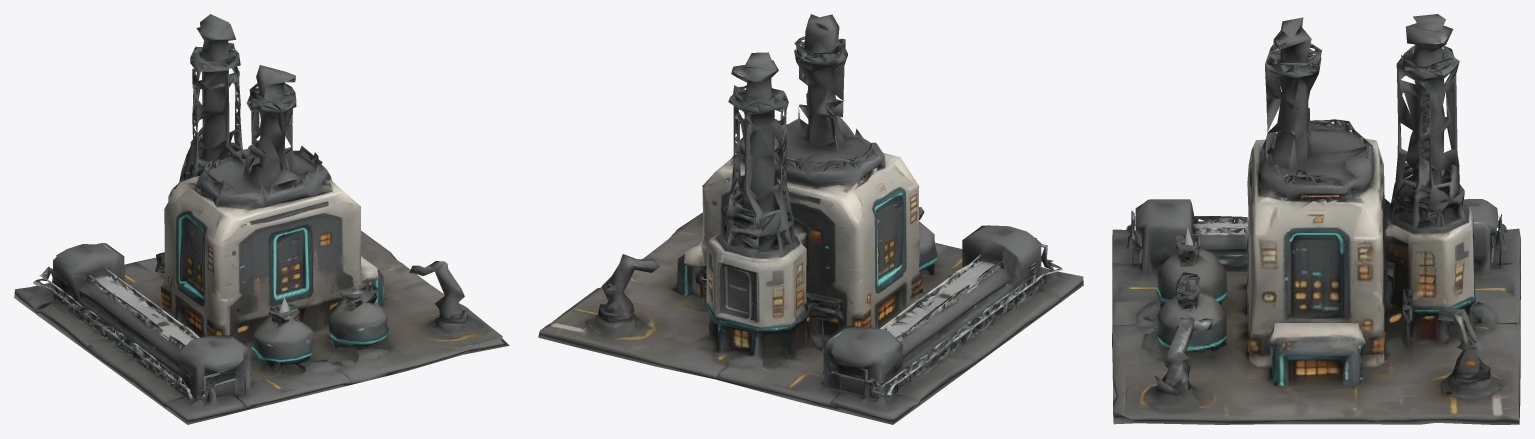
File: fabricator.glb
3 views of the same model, side by side, from view 1: azimuth 30°, elevation 25°; view 2: azimuth 150°, elevation 25°; view 3: azimuth 270°, elevation 25° (orthographic). The views are drawn at different scales.
Visible parts, largest first — view 1: tripo_node_851507c1-e6ab-473b-8577-f7ee92bf5914; view 2: tripo_node_851507c1-e6ab-473b-8577-f7ee92bf5914; view 3: tripo_node_851507c1-e6ab-473b-8577-f7ee92bf5914.
Part boxes in pixels (<box>): tripo_node_851507c1-e6ab-473b-8577-f7ee92bf5914: <box>14,14,509,424</box>; tripo_node_851507c1-e6ab-473b-8577-f7ee92bf5914: <box>538,14,1083,424</box>; tripo_node_851507c1-e6ab-473b-8577-f7ee92bf5914: <box>1112,14,1520,424</box>.
Bounding box in the file's own units: 1 × 0.7867 × 0.9279.
1 material, 1 textured.
